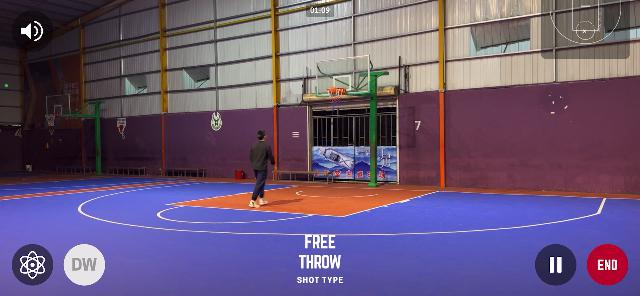basket: (326, 86, 344, 104)
goal: (328, 87, 338, 95)
